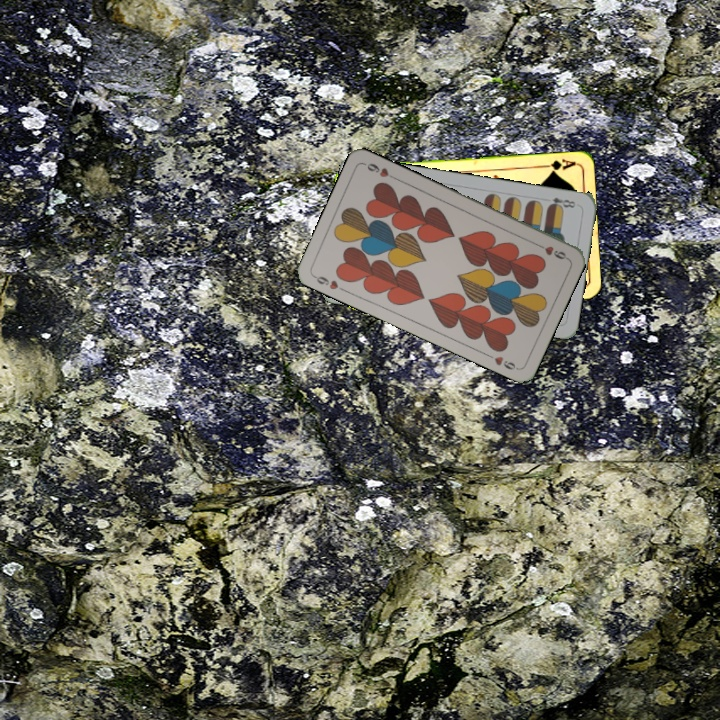E8: (540, 193, 578, 212)
GA: (537, 155, 578, 175)
H9: (532, 239, 570, 262), (310, 272, 341, 292)
